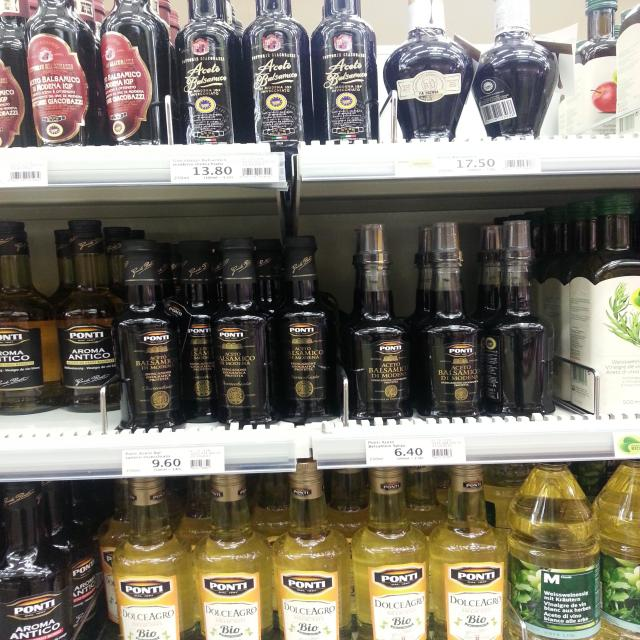Oil-Vinegar: (508, 457, 600, 640), (562, 198, 640, 413), (402, 224, 486, 415), (475, 217, 552, 415), (340, 226, 419, 418), (426, 469, 512, 640), (349, 471, 434, 640), (272, 232, 346, 422), (272, 472, 354, 640), (106, 477, 190, 640), (54, 216, 121, 416), (195, 477, 277, 640), (203, 238, 271, 428), (0, 477, 78, 640), (471, 0, 563, 137), (117, 237, 182, 428), (386, 0, 474, 139), (0, 219, 61, 413), (92, 0, 170, 143), (179, 0, 247, 142), (246, 0, 314, 142), (587, 459, 640, 640), (314, 0, 382, 141), (29, 0, 94, 143)
